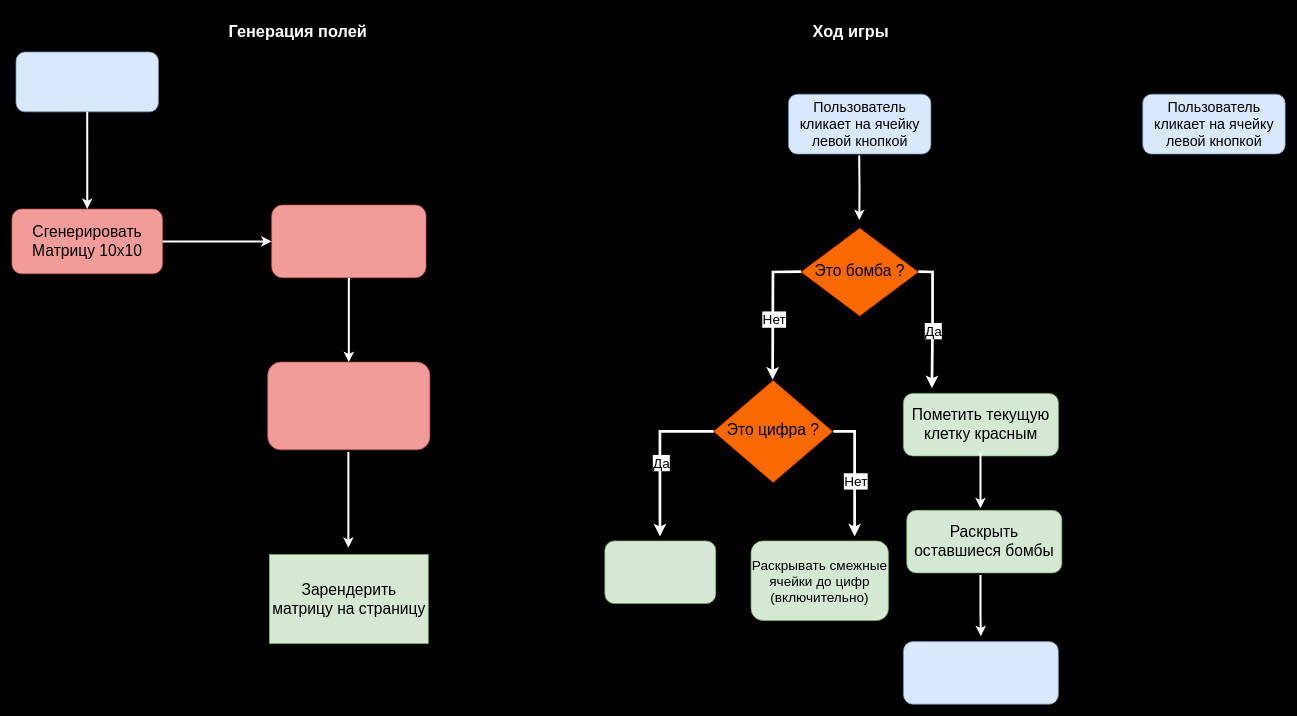
This 1297x716 diagram has some shape labels left out. Here are the shapes that lost their labels. From the top down, the centre of each, then its label:
(x=86, y=81): Страница загрузилась
(x=348, y=241): Сгенерировать 10 бомб
(x=348, y=405): Раставить цифры на смежные ячейки относительно бомб
(x=660, y=572): Раскрыть только эту ячейку
(x=980, y=672): Конец игры
